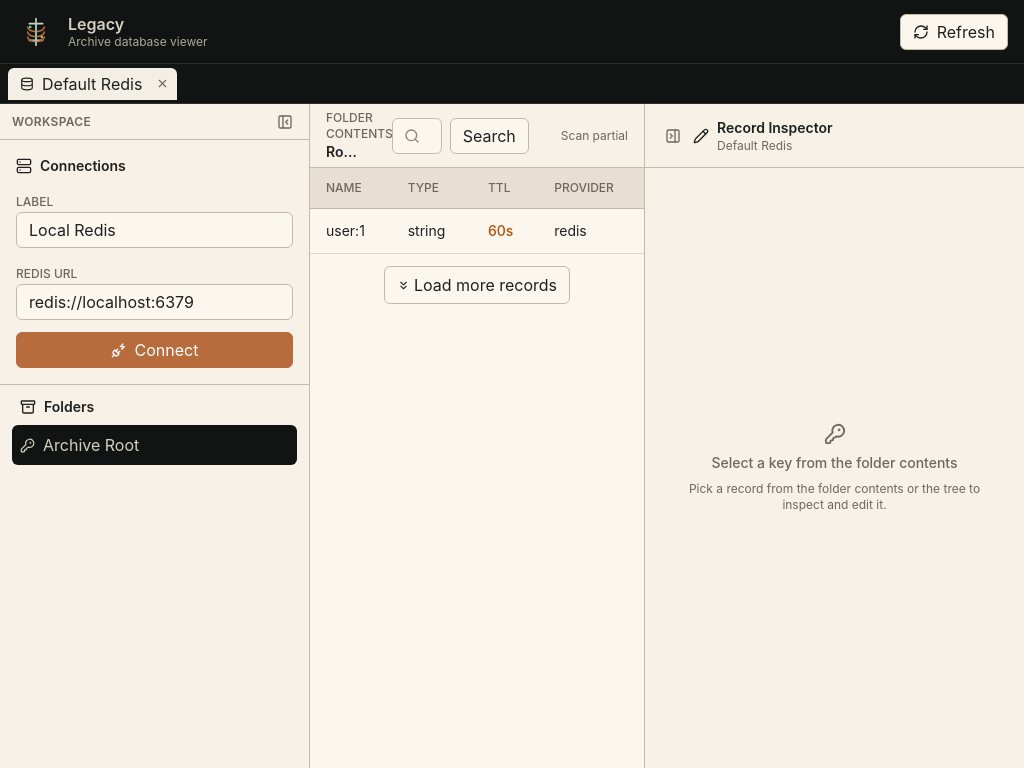
Test: DatabaseWorkbench › loads more records through the scan cursor
Expected: the button with aria-label "inspect user:1" is shown, [310,209,392,253]
Expected: the text "Scan partial" is shown, [561,128,628,144]
Click the button "Load more records".
click(477, 285)  # box [384,266,570,304]
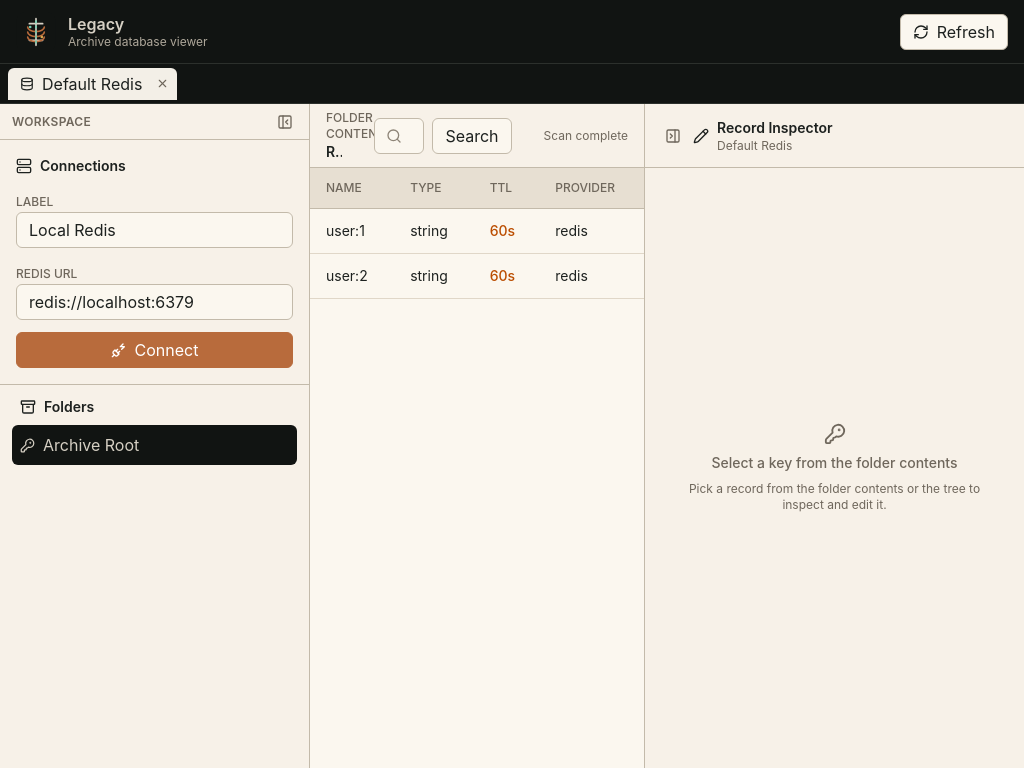
Expected: the button with aria-label "inspect user:1" is shown, [310,209,394,253]
Expected: the button with aria-label "inspect user:2" is shown, [310,254,394,298]
Expected: the text "Scan complete" is shown, [544,128,628,144]
